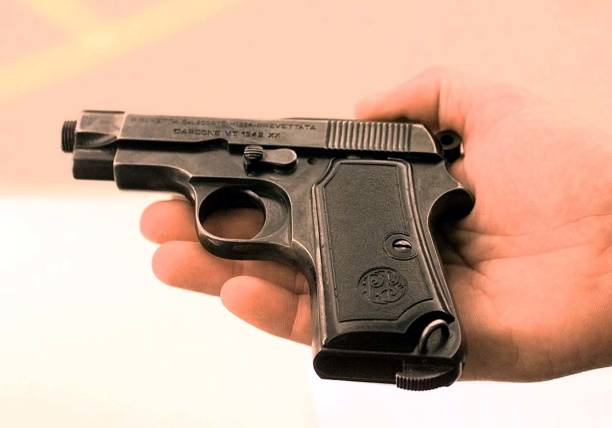pistol: (58, 103, 481, 399)
